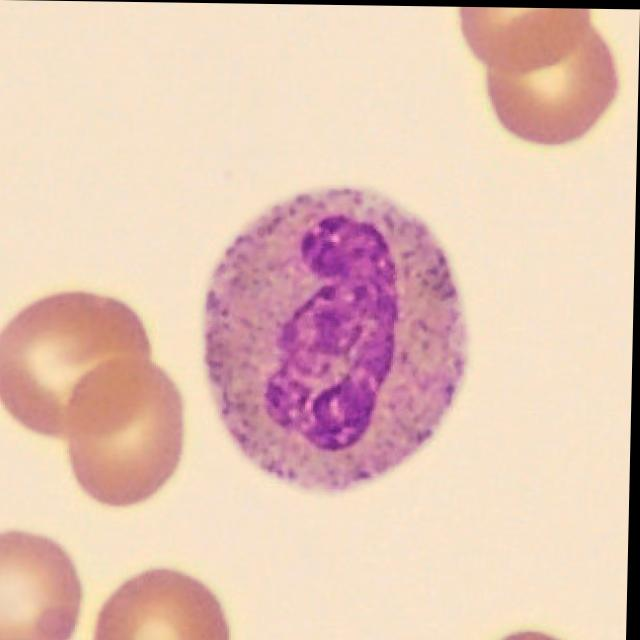Neutrofilo segmentado: (202, 184, 472, 490)
